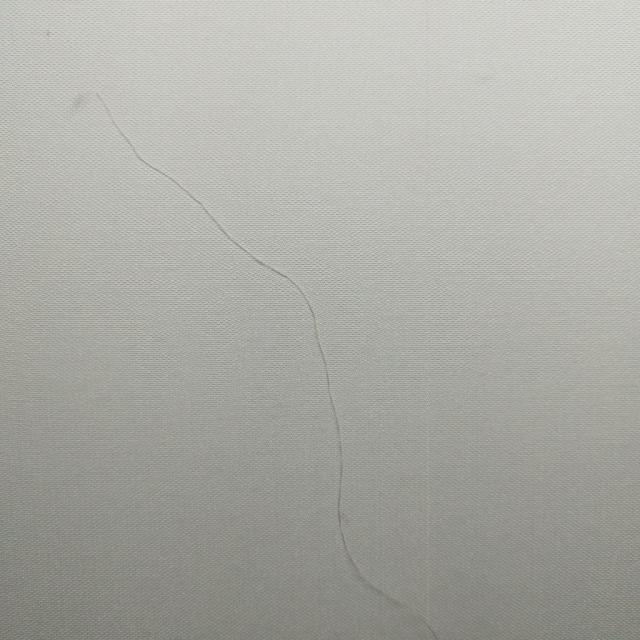Thread: (78, 87, 439, 637)
